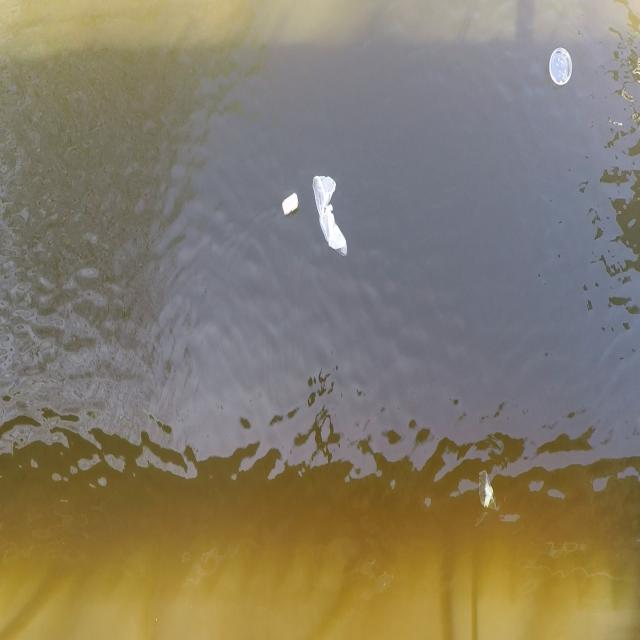Autre plastique: (547, 45, 577, 94)
Non plastique: (278, 192, 303, 220)
Sac plastique: (309, 168, 354, 259), (477, 467, 502, 523)
